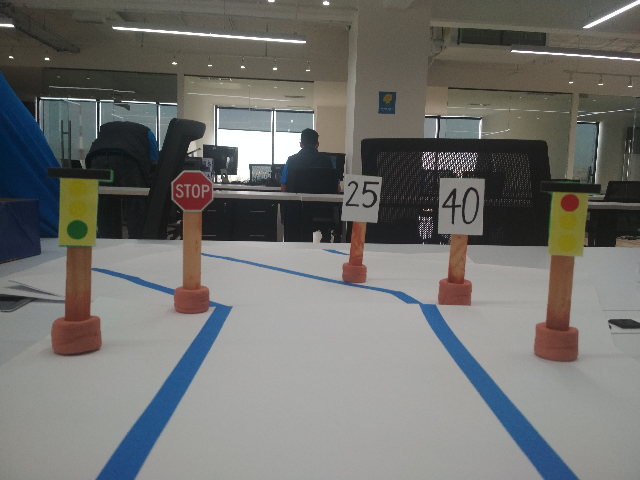Green Traffic Light: (44, 165, 115, 249)
Red Traffic Light: (535, 179, 603, 258)
Speed Limit 25: (337, 169, 383, 224)
Speed Limit 40: (435, 174, 485, 236)
Stop Sign: (167, 169, 215, 213)
